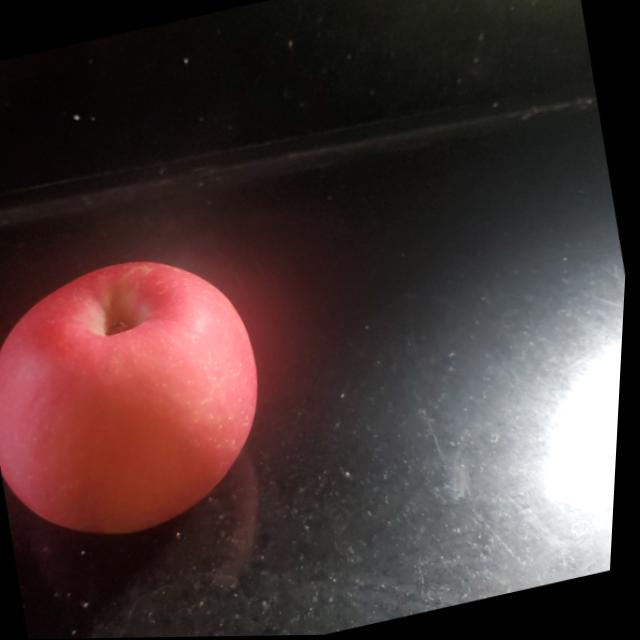apple: (0, 237, 295, 559)
